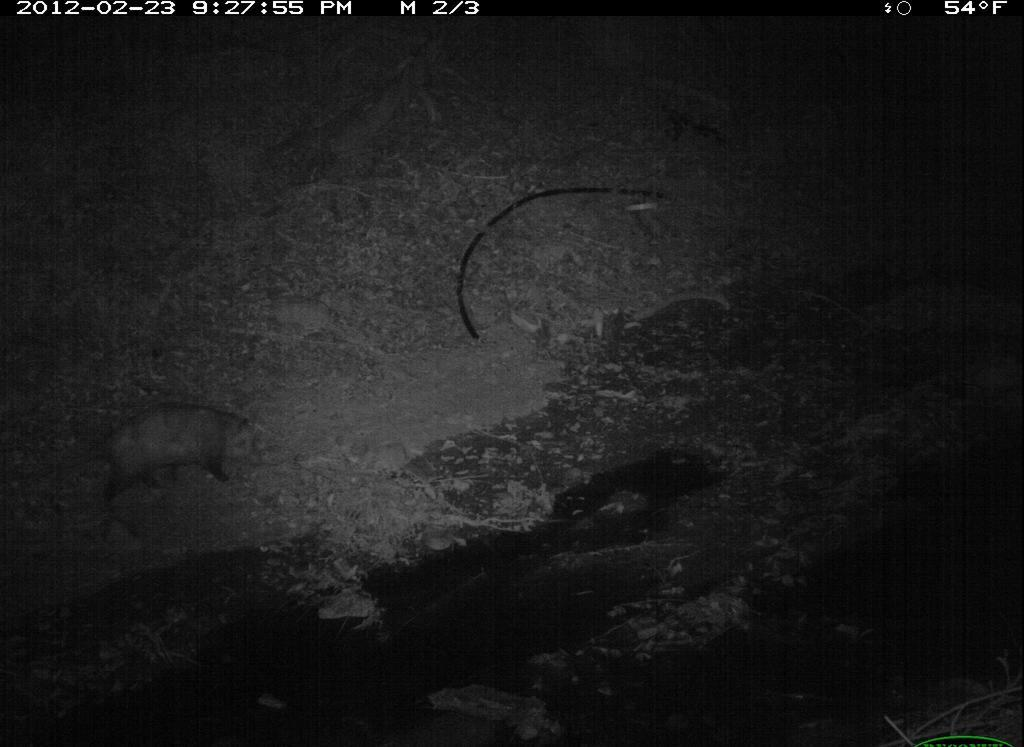opossum: (63, 397, 272, 515)
